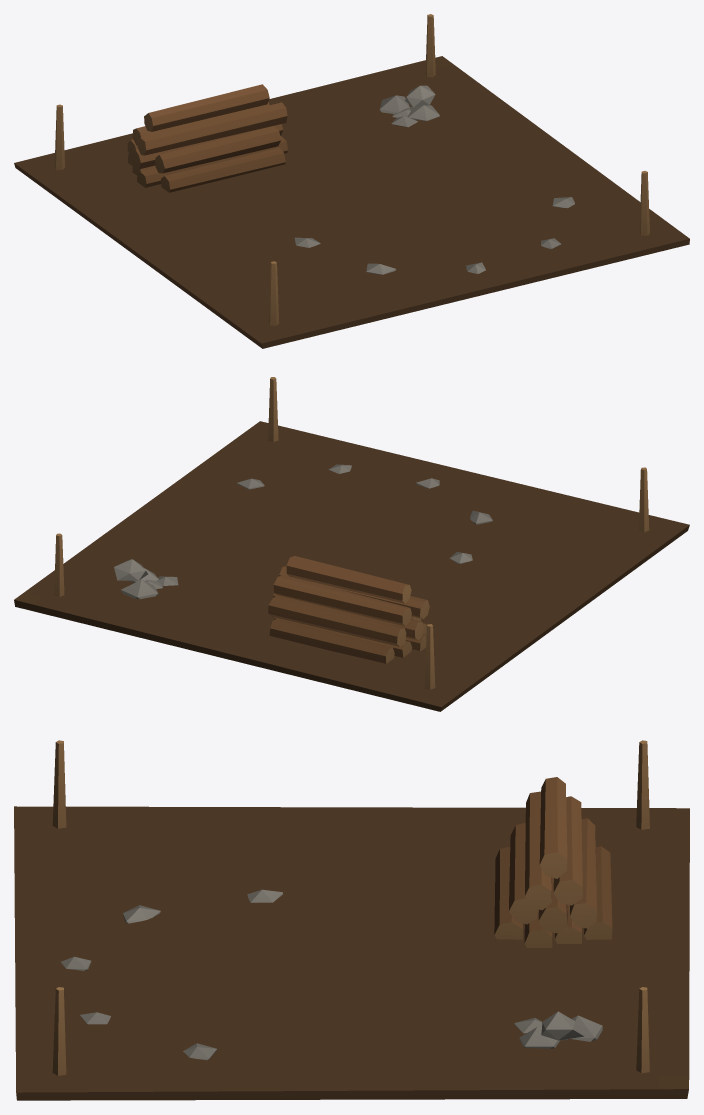
The model's file is barracks_s0.glb.
The picture shows the model from 3 angles, top to bottom: view 1: azimuth 30°, elevation 25°; view 2: azimuth 150°, elevation 25°; view 3: azimuth 270°, elevation 25°; orthographic projection. The views are drawn at different scales.
Parts seen in each view (by area): view 1: barracks_s0; view 2: barracks_s0; view 3: barracks_s0.
Part boxes in pixels (x1=…): barracks_s0: x1=14, y1=14, x2=689, y2=348; barracks_s0: x1=14, y1=377, x2=689, y2=711; barracks_s0: x1=14, y1=740, x2=689, y2=1100.
Bounding box in the file's own units: 3.01 × 0.4739 × 3.01.
